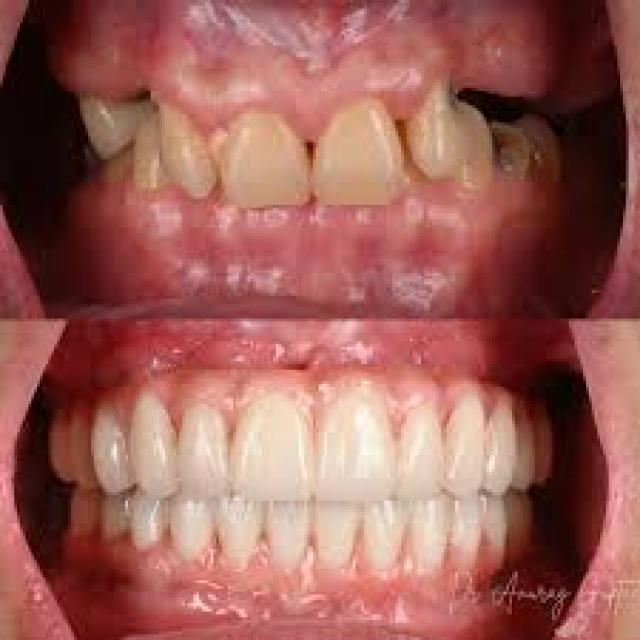tooth: (228, 392, 318, 507), (316, 381, 395, 504), (222, 117, 316, 210), (321, 105, 404, 205), (174, 396, 233, 500), (154, 102, 213, 194), (396, 398, 446, 504), (131, 395, 179, 495), (313, 492, 361, 589), (264, 492, 316, 580), (86, 407, 136, 498), (364, 490, 413, 580), (415, 82, 464, 170), (216, 489, 268, 569), (410, 487, 455, 578), (452, 490, 490, 578), (455, 395, 487, 498), (171, 484, 213, 554)
